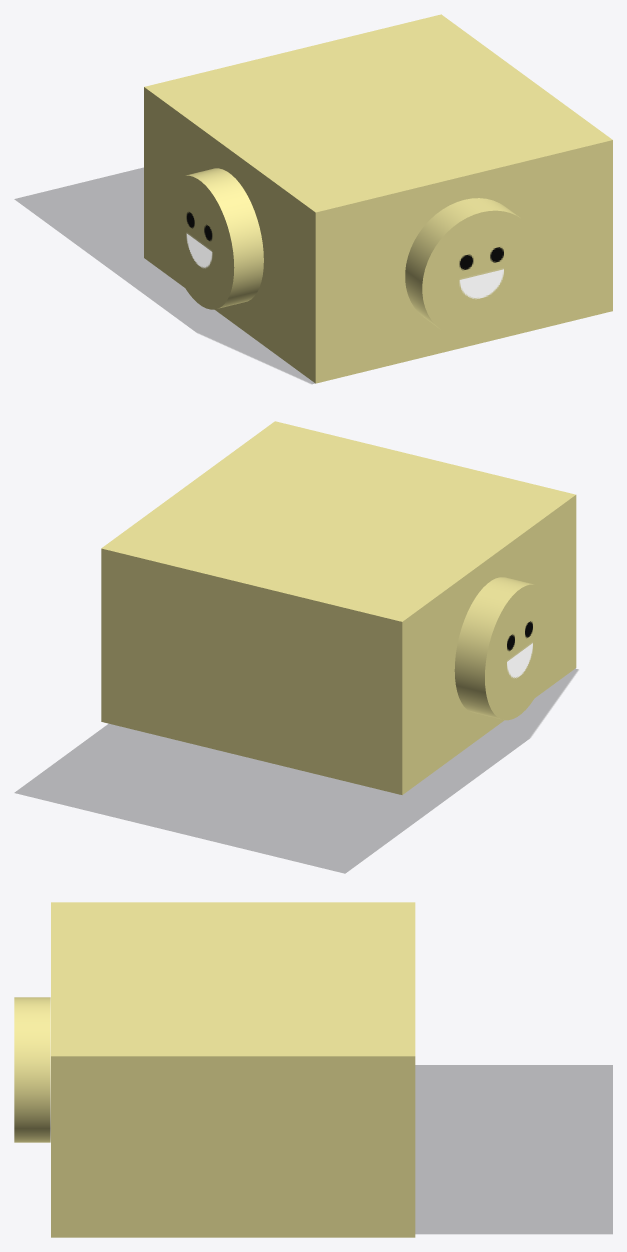
The model's file is block_10.glb.
3 views of the same model, one above another, from view 1: azimuth 30°, elevation 25°; view 2: azimuth 150°, elevation 25°; view 3: azimuth 270°, elevation 25° (orthographic). The views are drawn at different scales.
Parts seen in each view (by area): view 1: hitObj, block; view 2: hitObj, block; view 3: hitObj, block.
Boxes of the visible parts, x1,y1,x2,y2 form: hitObj: [144, 14, 612, 383]; block: [15, 168, 314, 383]; hitObj: [101, 421, 576, 794]; block: [15, 669, 578, 873]; hitObj: [14, 902, 415, 1237]; block: [415, 1065, 612, 1233].
Size of the model in its own units: 11.24 by 5.51 by 16.45.
3 materials, 2 textured.
